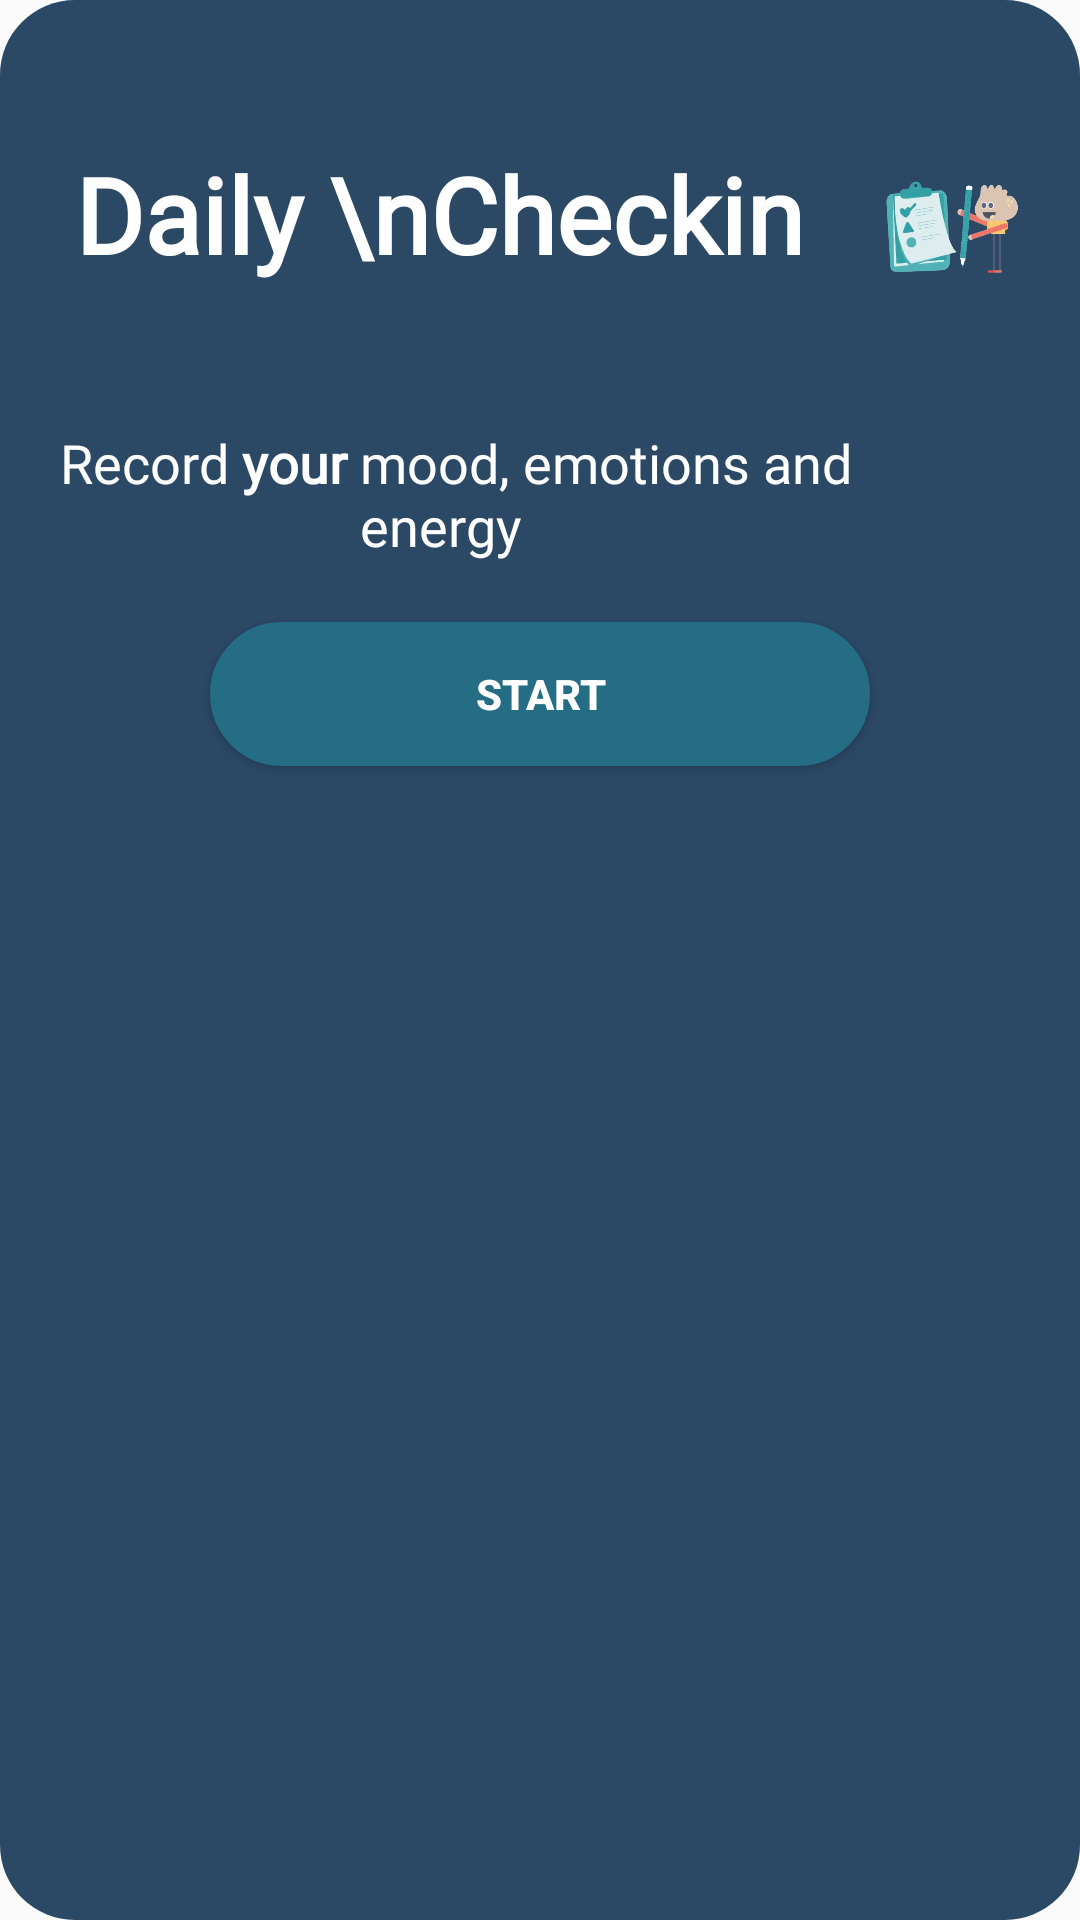

Icon bounding boxes for this 1080 x 1920 phone screenshot, format (x1=x1, y1=y1, x2=x2, y2=y2):
daily update: (x1=886, y1=181, x2=1018, y2=273)
